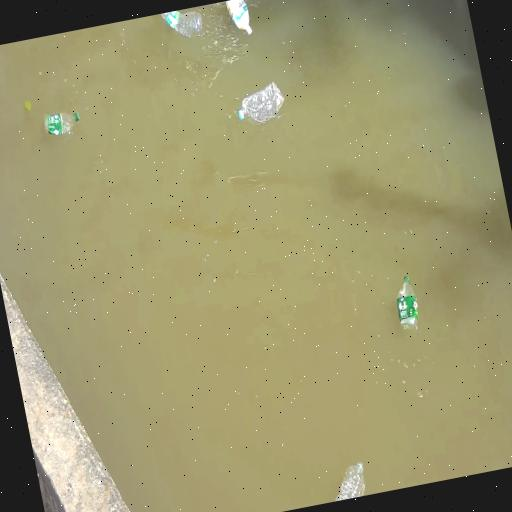plastic: (236, 83, 283, 124), (396, 275, 418, 333), (161, 11, 202, 37), (336, 463, 364, 500), (225, 0, 251, 34), (43, 113, 79, 135)
